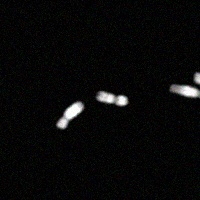chromosome: (56, 101, 84, 131), (170, 84, 200, 104), (96, 90, 128, 108), (194, 73, 200, 85)
